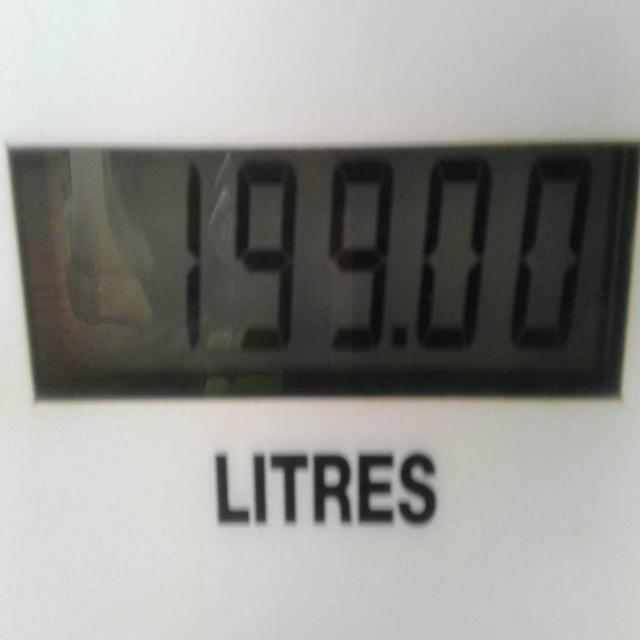.: (383, 314, 413, 356)
0: (509, 156, 596, 353), (417, 160, 492, 354)
1: (173, 156, 213, 358)
9: (232, 159, 301, 362), (320, 156, 393, 347)
screen: (7, 137, 640, 415)
